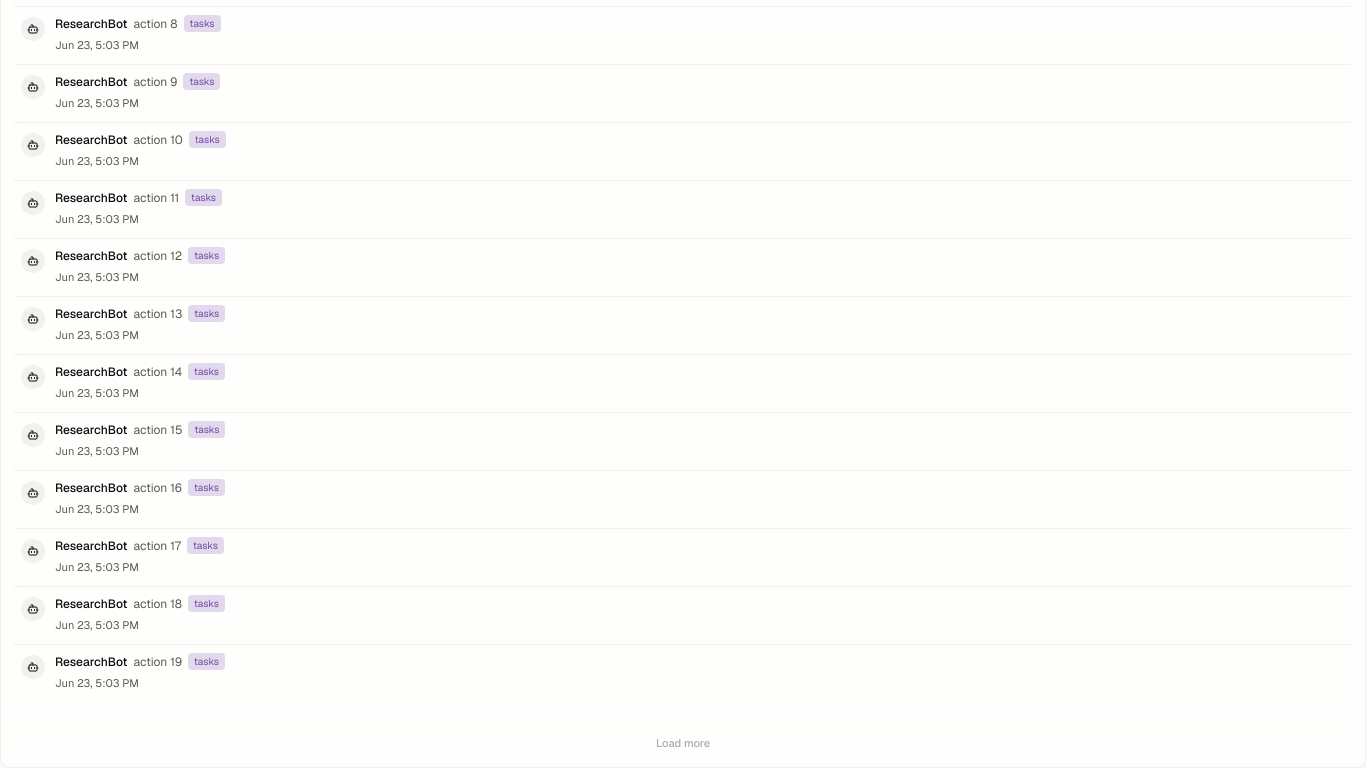
Test: ActivityStream › loads more entries on button click
(page scrolled)
Click the button "Load more" at (683, 743), box [644,729,722,757]
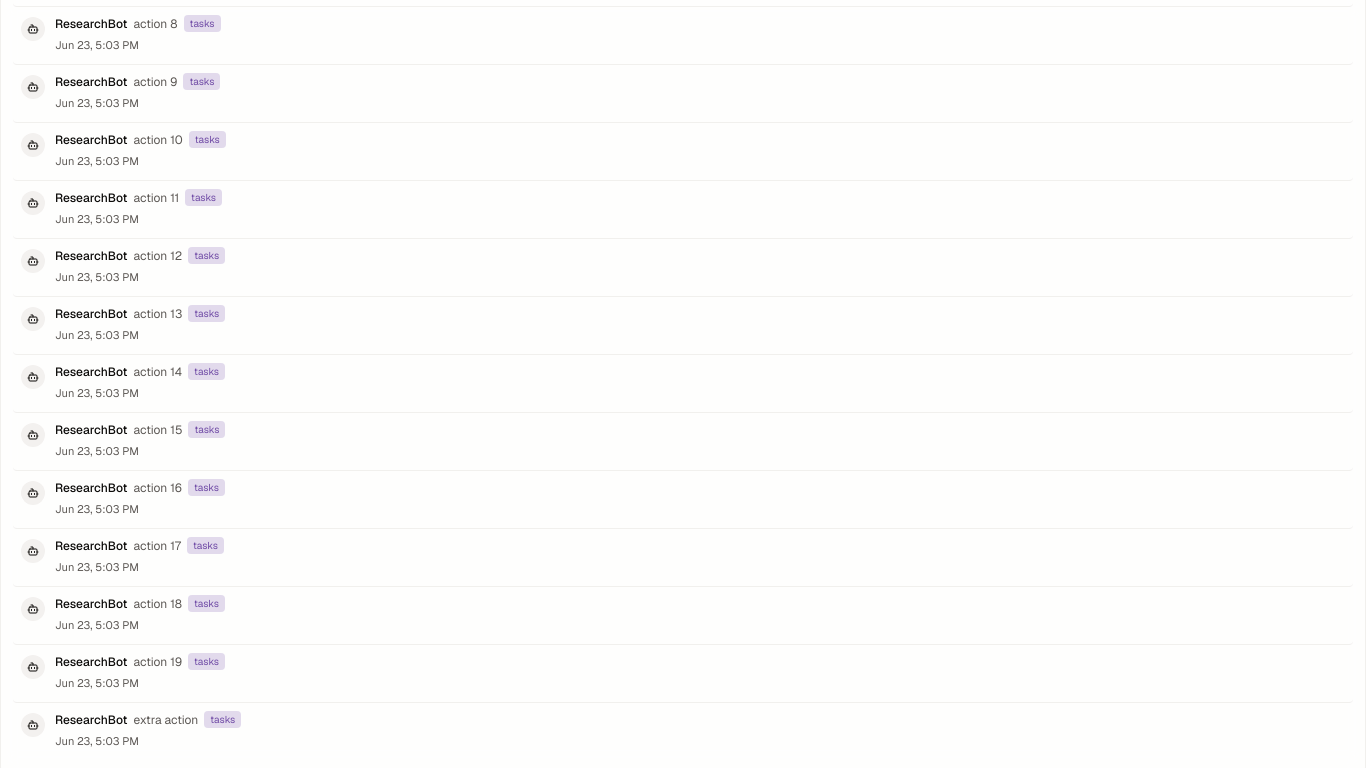
Check: the text "extra action" is shown, box [134,712,198,728]
